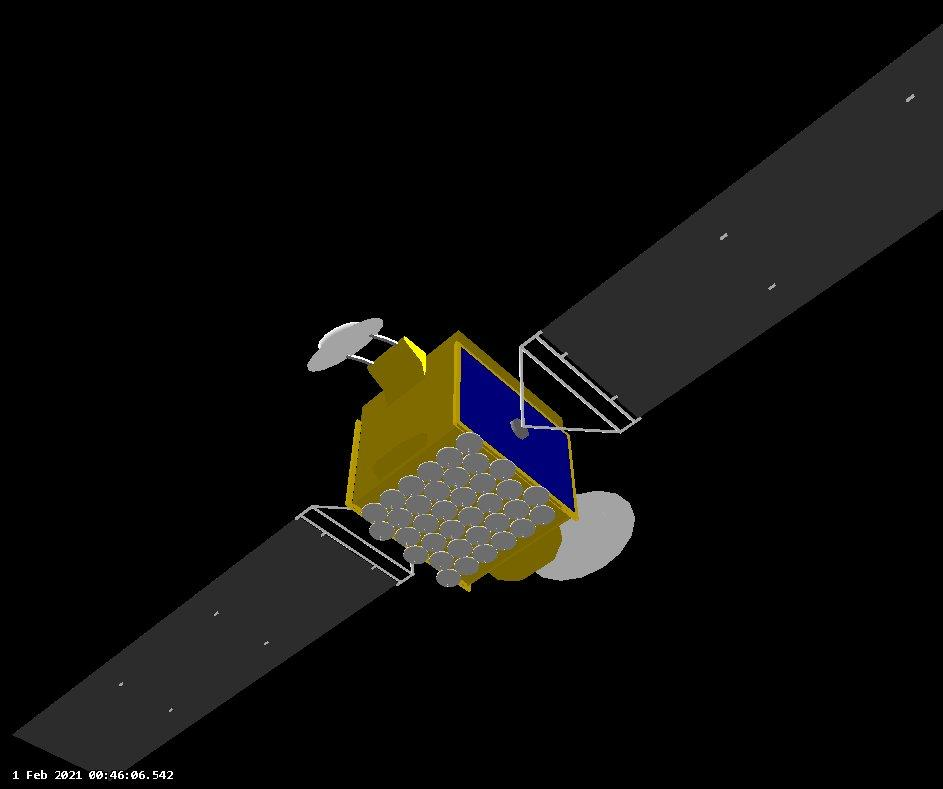antenna: (534, 487, 636, 583), (304, 316, 385, 374), (314, 321, 358, 351), (455, 432, 484, 455), (442, 466, 471, 489), (462, 452, 490, 475), (398, 475, 427, 497), (360, 502, 389, 524), (379, 488, 406, 511), (416, 460, 444, 482), (423, 481, 451, 503), (404, 495, 433, 516), (523, 484, 549, 507), (436, 447, 463, 469), (386, 507, 413, 529), (489, 459, 517, 480), (450, 487, 478, 508), (457, 506, 485, 527), (530, 504, 556, 526), (503, 500, 531, 520), (431, 501, 459, 521), (491, 530, 519, 550), (496, 480, 523, 500), (478, 493, 503, 514), (470, 473, 496, 493), (439, 521, 465, 541), (395, 527, 421, 547), (403, 545, 429, 565), (510, 519, 537, 538), (465, 526, 492, 545), (447, 539, 474, 558), (485, 513, 511, 532), (421, 533, 447, 552), (429, 551, 455, 570), (454, 556, 480, 575), (414, 514, 439, 533), (436, 568, 461, 587), (369, 523, 395, 541), (472, 545, 498, 563)
body: (344, 328, 580, 593)
solar: (514, 18, 943, 437), (12, 503, 419, 776)
